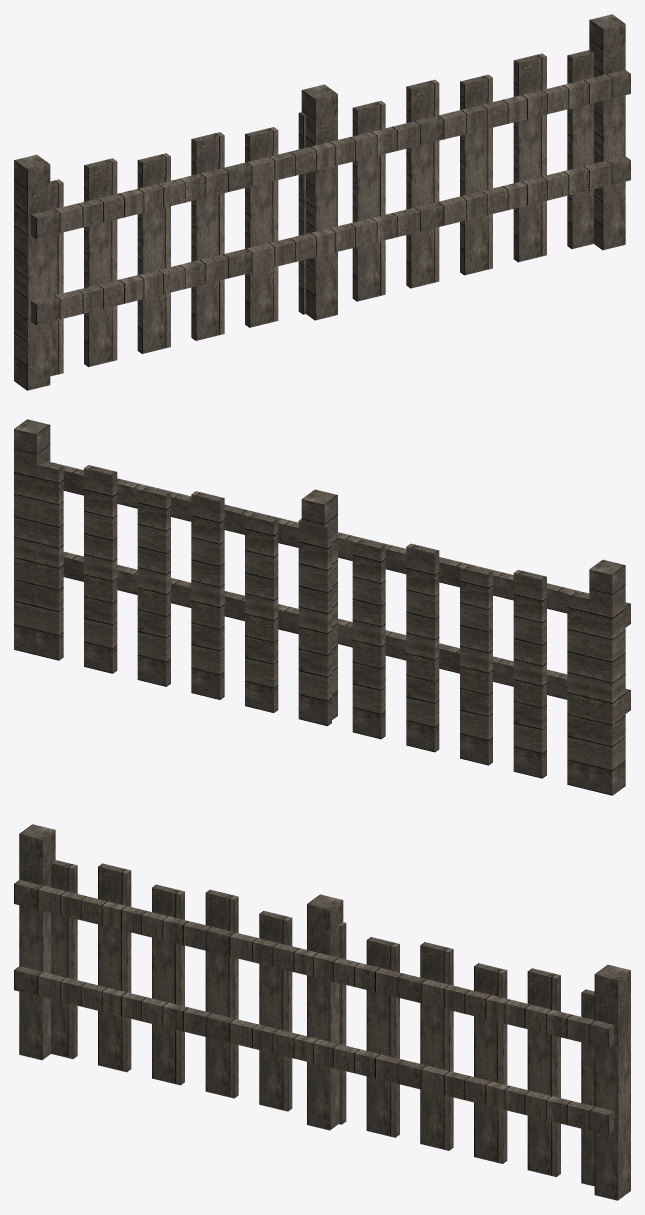
Rendered from wood_fence_01.glb.
3 views of the same model, one above another, from view 1: azimuth 30°, elevation 25°; view 2: azimuth 150°, elevation 25°; view 3: azimuth 330°, elevation 25° (orthographic).
Visible parts, largest first — view 1: wood_fence_01; view 2: wood_fence_01; view 3: wood_fence_01.
Part boxes in pixels (box(x1,y1,x2,y2)): wood_fence_01: box(14, 14, 630, 390); wood_fence_01: box(14, 419, 630, 795); wood_fence_01: box(14, 824, 630, 1200).
Bounding box in the file's own units: 3.12 × 1.1 × 0.185.
Materials: 1 (1 with a texture image).
